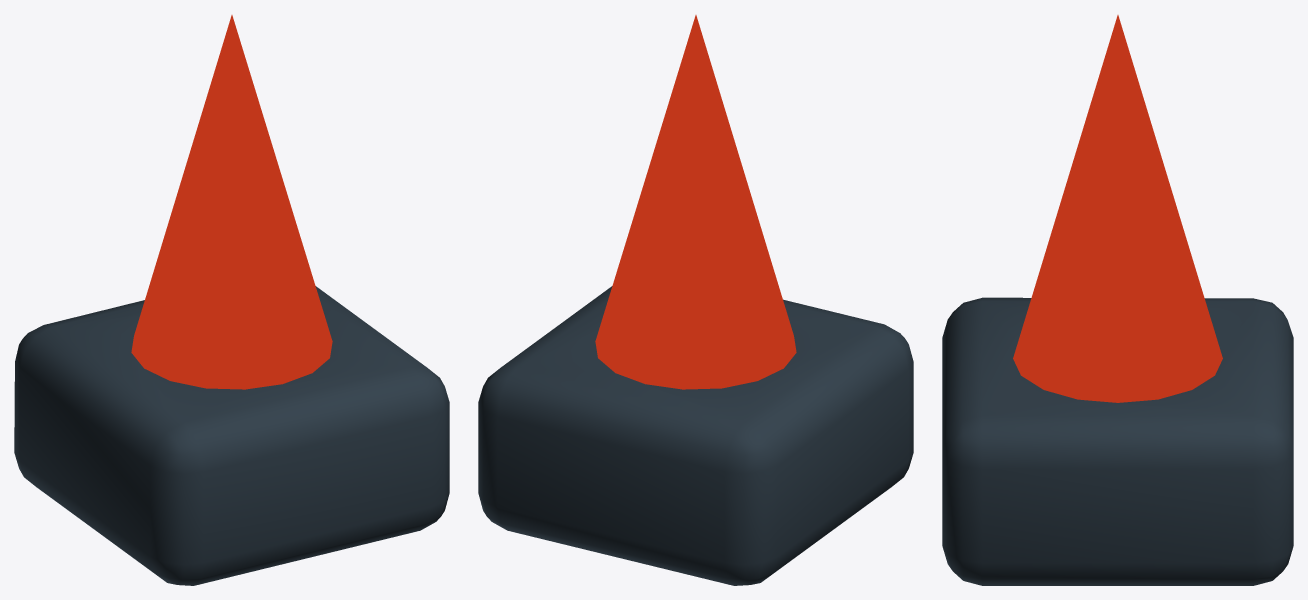
The model's file is cone trap with shape key.fbx.
3 renders of one model, left to right at view 1: azimuth 30°, elevation 25°; view 2: azimuth 150°, elevation 25°; view 3: azimuth 270°, elevation 25°, orthographic. The views are drawn at different scales.
Parts seen in each view (by area): view 1: cone trap; view 2: cone trap; view 3: cone trap.
Part boxes in pixels (x1,y1,x2,y2): cone trap: [14, 15, 449, 585]; cone trap: [478, 15, 913, 585]; cone trap: [942, 15, 1293, 585].
Bounding box in the file's own units: 140 × 225 × 140.
